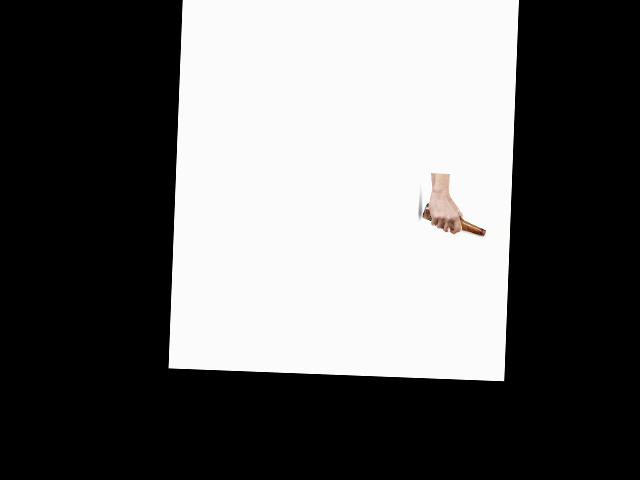beer: (420, 202, 486, 236)
